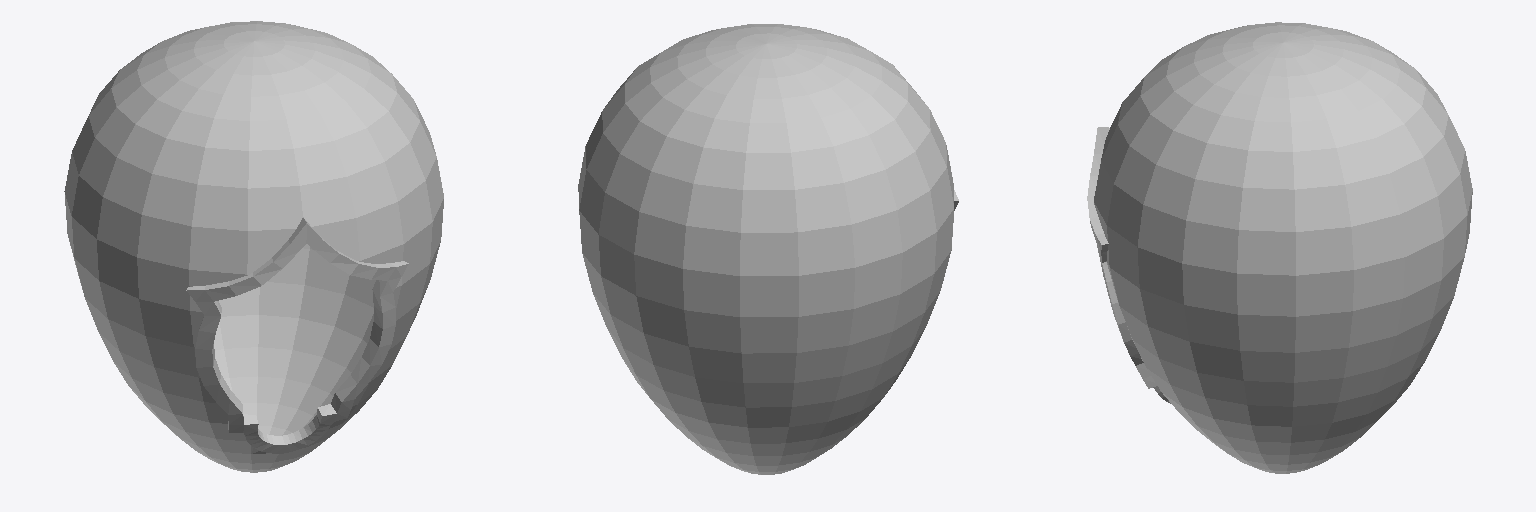
Rendered from birdhouse-01.obj.
3 views of the same model, side by side, from view 1: azimuth 30°, elevation 25°; view 2: azimuth 150°, elevation 25°; view 3: azimuth 270°, elevation 25° (orthographic).
Parts seen in each view (by area): view 1: birdhouse pasted__outisde, birdhouse pasted__inside1, pasted__door_frame birdhouse; view 2: birdhouse pasted__outisde; view 3: birdhouse pasted__outisde, pasted__door_frame birdhouse.
Boxes of the visible parts, <box> form: birdhouse pasted__outisde: <box>64,21,443,472</box>; birdhouse pasted__inside1: <box>214,244,375,435</box>; pasted__door_frame birdhouse: <box>186,217,408,453</box>; birdhouse pasted__outisde: <box>578,24,953,474</box>; birdhouse pasted__outisde: <box>1094,22,1472,473</box>; pasted__door_frame birdhouse: <box>1087,127,1170,403</box>.
Bounding box in the file's own units: 0.7849 × 0.975 × 0.7983.